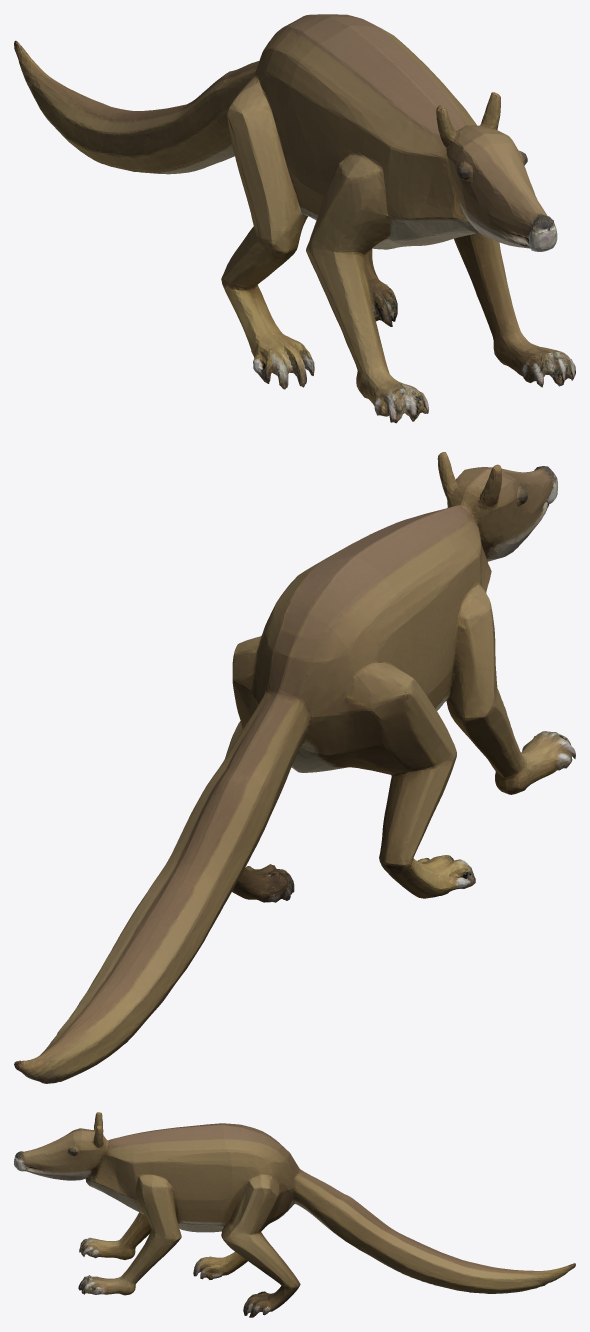
The picture shows the model from 3 angles, top to bottom: view 1: azimuth 30°, elevation 25°; view 2: azimuth 150°, elevation 25°; view 3: azimuth 270°, elevation 25°; orthographic projection. The views are drawn at different scales.
Visible parts, largest first — view 1: world; view 2: world; view 3: world.
Boxes of the visible parts, x1=… form: world: x1=14, y1=14, x2=575, y2=423; world: x1=14, y1=452, x2=575, y2=1083; world: x1=14, y1=1112, x2=575, y2=1317.
Bounding box in the file's own units: 0.1424 × 0.2304 × 0.65.
1 material, 1 textured.
